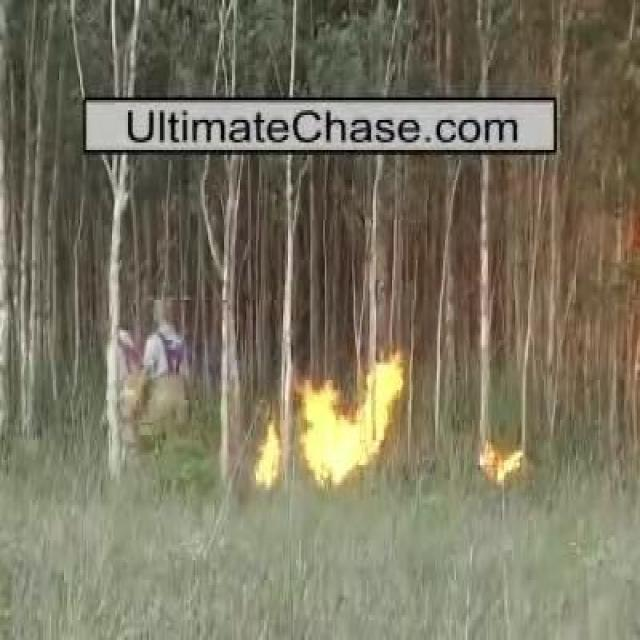Fire: (255, 356, 402, 489), (479, 441, 524, 484)
